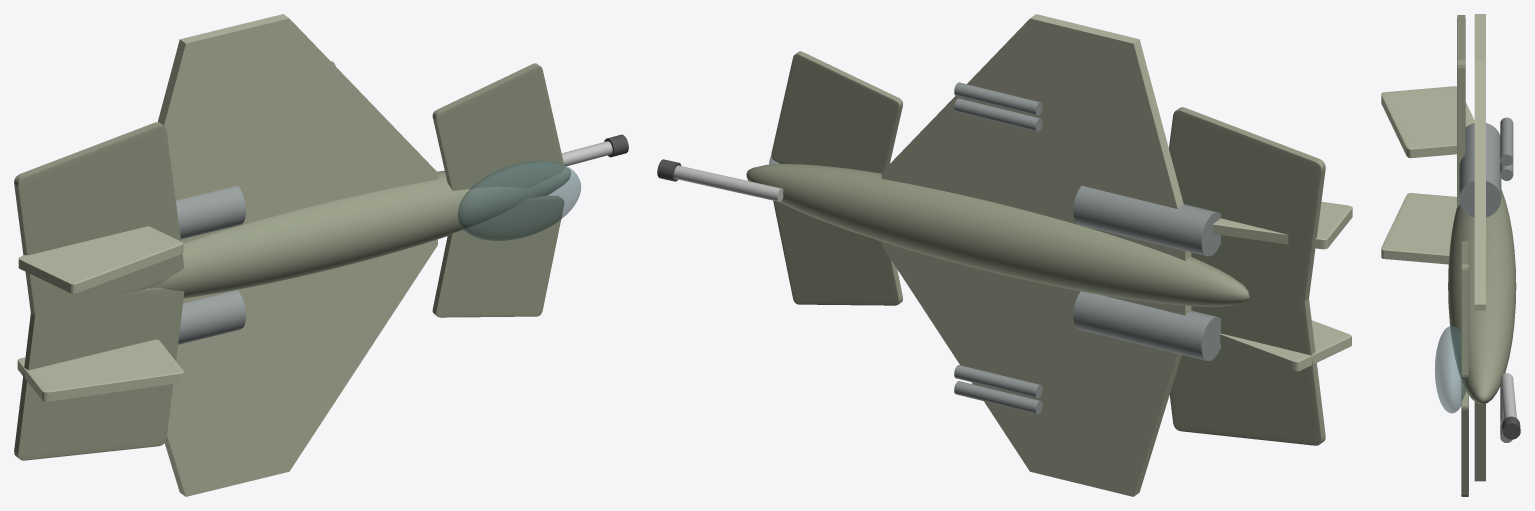
Rendered from v-u25-vanguard-multirole-aircraft-lod1.glb.
3 renders of one model, left to right at view 1: azimuth 30°, elevation 25°; view 2: azimuth 150°, elevation 25°; view 3: azimuth 270°, elevation 25°, orthographic. The views are drawn at different scales.
Visible parts, largest first — view 1: combat_main_wing, combat_fuselage, combat_tailplane_1, combat_tailplane_-1, canard_1, canard_-1, combat_canopy, combat_fin_-1, combat_fin_1, combat_engine_1, combat_engine_0, combat_gun_barrel_0; view 2: combat_main_wing, combat_fuselage, combat_tailplane_1, combat_tailplane_-1, canard_1, canard_-1, combat_engine_0, combat_engine_1, combat_fin_-1, combat_fin_1, combat_gun_barrel_0, combat_-1_tube_2 (+3 smaller); view 3: combat_fuselage, combat_fin_1, combat_main_wing, combat_fin_-1, combat_engine_1, combat_canopy, combat_tailplane_1, canard_1, canard_-1, combat_1_tube_2, combat_gun_barrel_0, combat_gun_muzzle_0 (+1 smaller).
Boxes of the visible parts, <box> form: combat_main_wing: <box>158,14,437,496</box>; combat_fuselage: <box>148,166,570,298</box>; combat_tailplane_1: <box>14,122,184,320</box>; combat_tailplane_-1: <box>14,287,184,460</box>; canard_1: <box>432,63,564,190</box>; canard_-1: <box>432,196,563,317</box>; combat_canopy: <box>458,161,581,240</box>; combat_fin_-1: <box>17,339,183,401</box>; combat_fin_1: <box>18,226,183,293</box>; combat_engine_1: <box>176,185,245,239</box>; combat_engine_0: <box>178,290,245,344</box>; combat_gun_barrel_0: <box>561,141,612,166</box>; combat_main_wing: <box>881,14,1191,496</box>; combat_fuselage: <box>746,164,1249,306</box>; combat_tailplane_1: <box>1169,107,1325,305</box>; combat_tailplane_-1: <box>1169,287,1325,445</box>; canard_1: <box>771,51,902,173</box>; canard_-1: <box>773,200,902,305</box>; combat_engine_0: <box>1073,291,1220,360</box>; combat_engine_1: <box>1073,185,1220,256</box>; combat_fin_-1: <box>1220,320,1351,371</box>; combat_fin_1: <box>1213,201,1352,249</box>; combat_gun_barrel_0: <box>674,165,783,201</box>; combat_-1_tube_2: <box>954,365,1042,398</box>; combat_fuselage: <box>1448,189,1516,404</box>; combat_fin_1: <box>1381,86,1474,158</box>; combat_main_wing: <box>1474,14,1485,481</box>; combat_fin_-1: <box>1381,193,1456,264</box>; combat_engine_1: <box>1459,123,1501,217</box>; combat_canopy: <box>1434,326,1465,413</box>; combat_tailplane_1: <box>1457,15,1465,208</box>; canard_1: <box>1461,241,1468,378</box>; canard_-1: <box>1461,380,1468,496</box>; combat_1_tube_2: <box>1500,117,1513,165</box>; combat_gun_barrel_0: <box>1500,373,1516,419</box>; combat_gun_muzzle_0: <box>1502,416,1520,439</box>.
Size of what is drawn, in the model's own units: 14.2 by 9.68 by 2.91.
